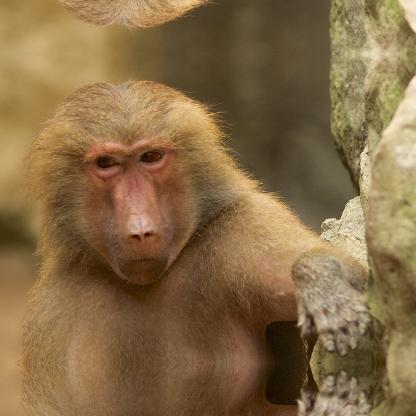Monkey: (10, 66, 386, 360)
